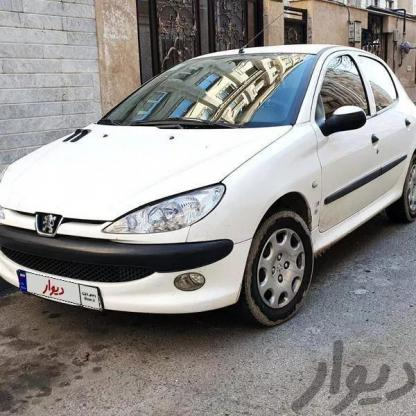Car: (0, 41, 416, 324)
